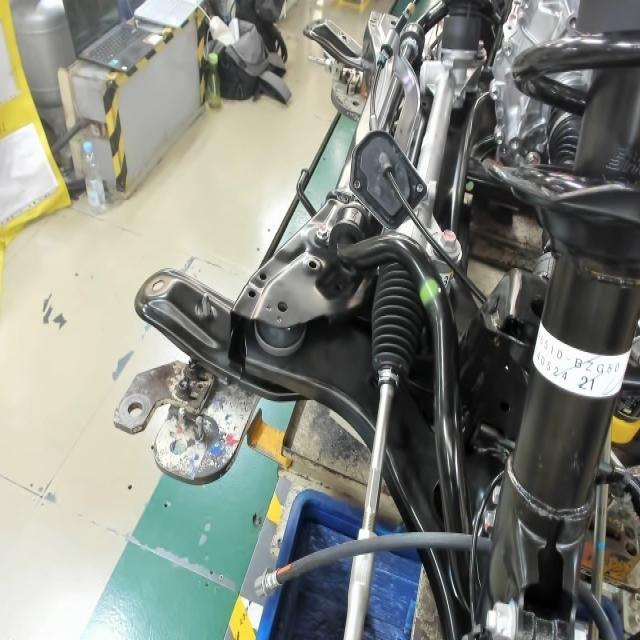Absorber RH-21: (574, 365, 602, 400)
Bar Stabilizer-HJ: (414, 276, 443, 311)
